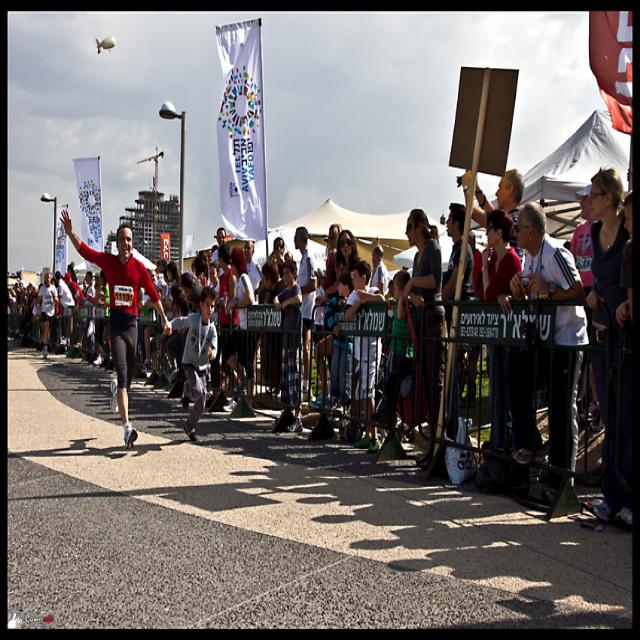Bib: (113, 291, 133, 306)
